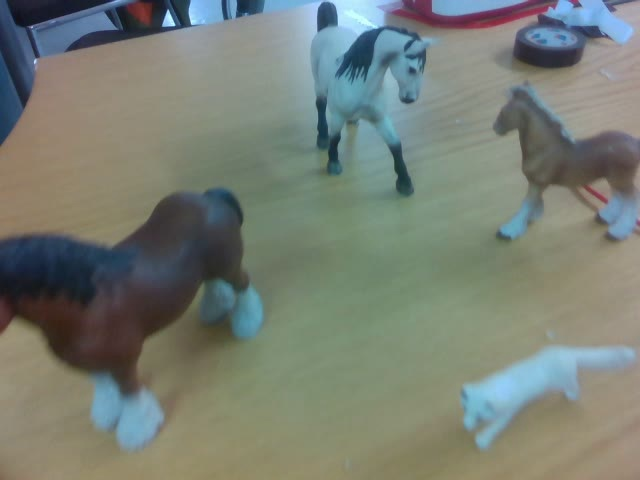toy: (309, 1, 433, 197), (492, 80, 640, 242), (459, 341, 637, 452)
